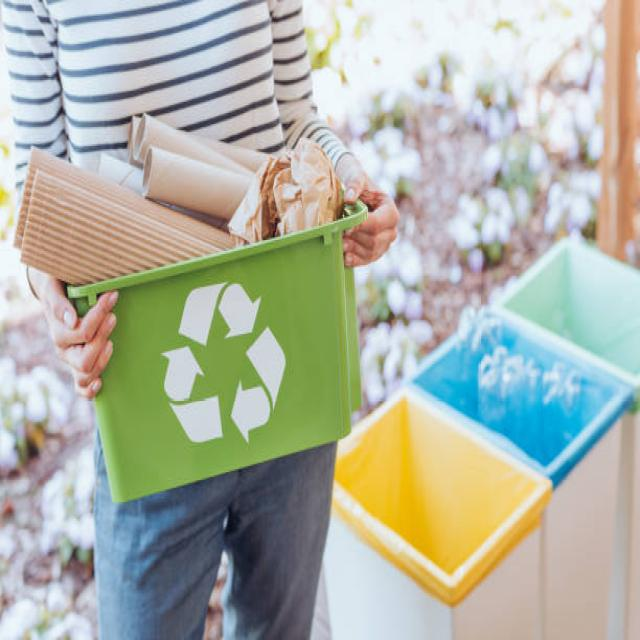cardboard: (8, 113, 236, 260)
paper: (247, 143, 337, 218)
